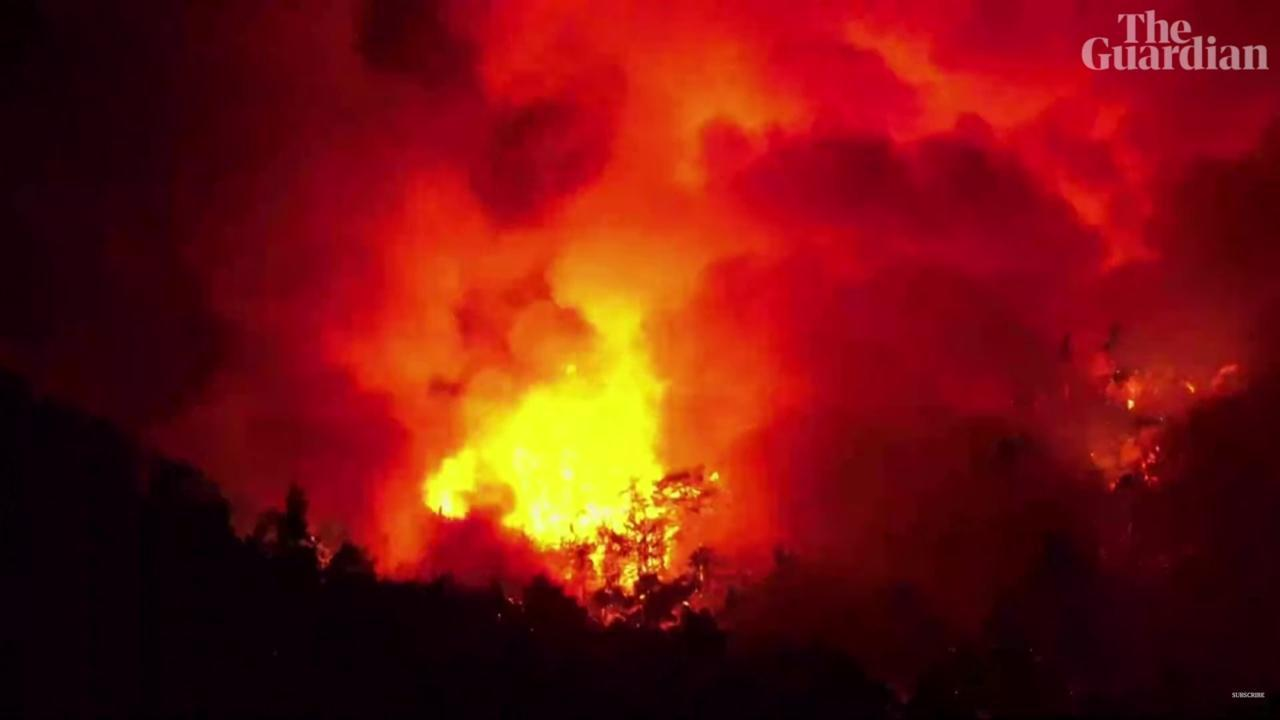fire: (419, 295, 704, 597), (1125, 398, 1137, 410), (1185, 381, 1196, 393), (709, 470, 719, 482)
smoke: (0, 0, 1280, 720)
